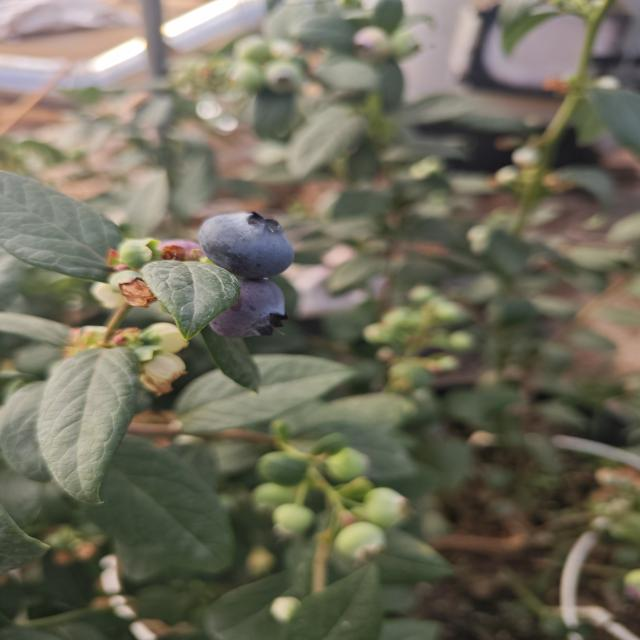ripe: (196, 210, 298, 279), (205, 279, 292, 343)
